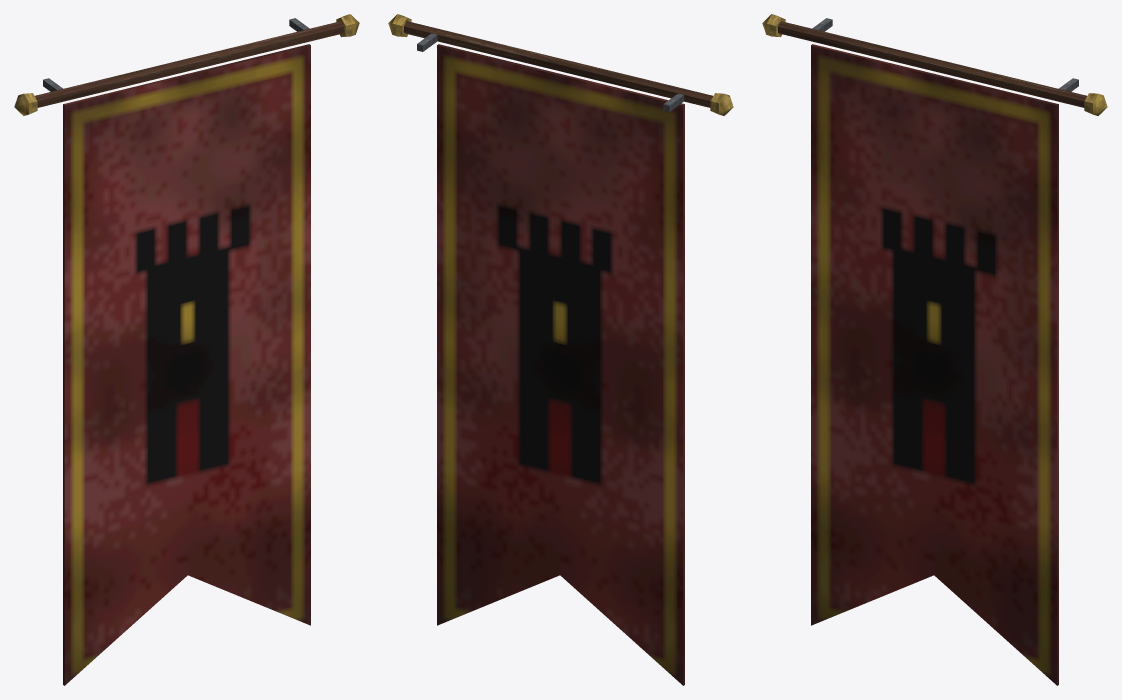
Rendered from banner_red.obj.
3 renders of one model, left to right at view 1: azimuth 30°, elevation 25°; view 2: azimuth 150°, elevation 25°; view 3: azimuth 330°, elevation 25°, orthographic.
Parts seen in each view (by area): view 1: banner_red_cloth, banner_red; view 2: banner_red_cloth, banner_red; view 3: banner_red_cloth, banner_red.
Part boxes in pixels (x1,y1,x2,y2): banner_red_cloth: [63, 44, 310, 685]; banner_red: [14, 14, 359, 115]; banner_red_cloth: [437, 44, 684, 685]; banner_red: [388, 14, 733, 115]; banner_red_cloth: [811, 44, 1058, 685]; banner_red: [762, 14, 1107, 115].
Bounding box in the file's own units: 1.12 × 1.86 × 0.1303.
1 material, 1 textured.
